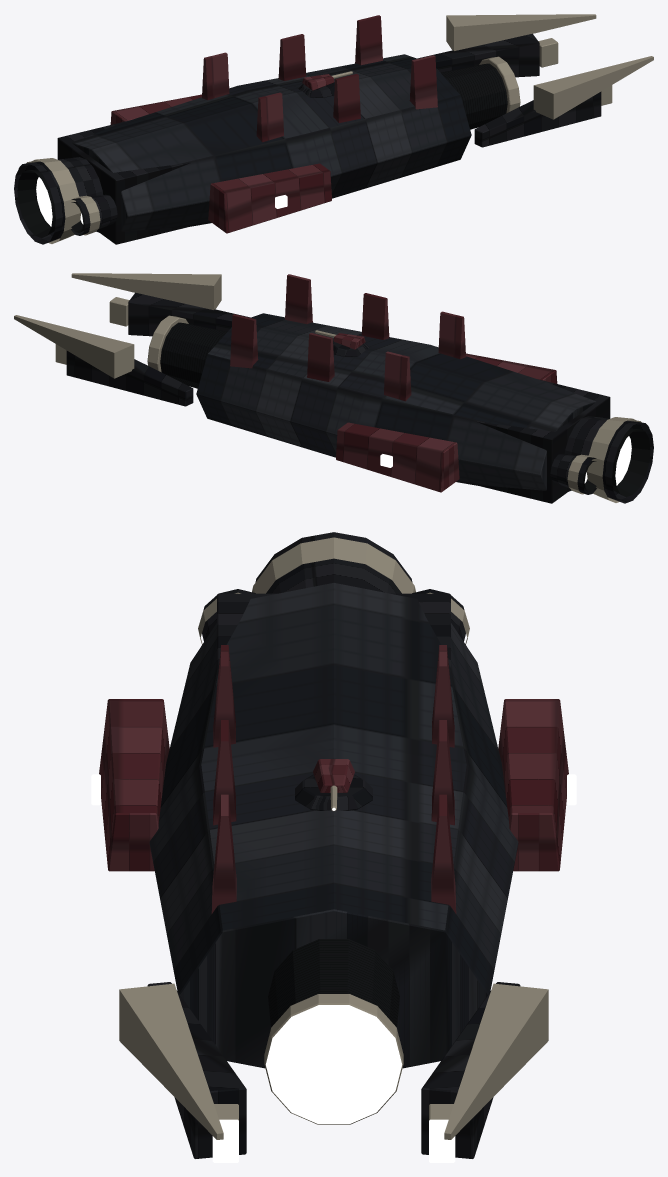
The model's file is commando.glb.
The picture shows the model from 3 angles, top to bottom: view 1: azimuth 30°, elevation 25°; view 2: azimuth 150°, elevation 25°; view 3: azimuth 270°, elevation 25°; orthographic projection. The views are drawn at different scales.
Parts seen in each view (by area): view 1: commando; view 2: commando; view 3: commando.
Part boxes in pixels (x1,y1,x2,y2): commando: (14,14,653,244); commando: (14,273,653,503); commando: (91,532,576,1162).
Size of the model in its own units: 22 by 4.49 by 7.84.
1 material, 1 textured.
